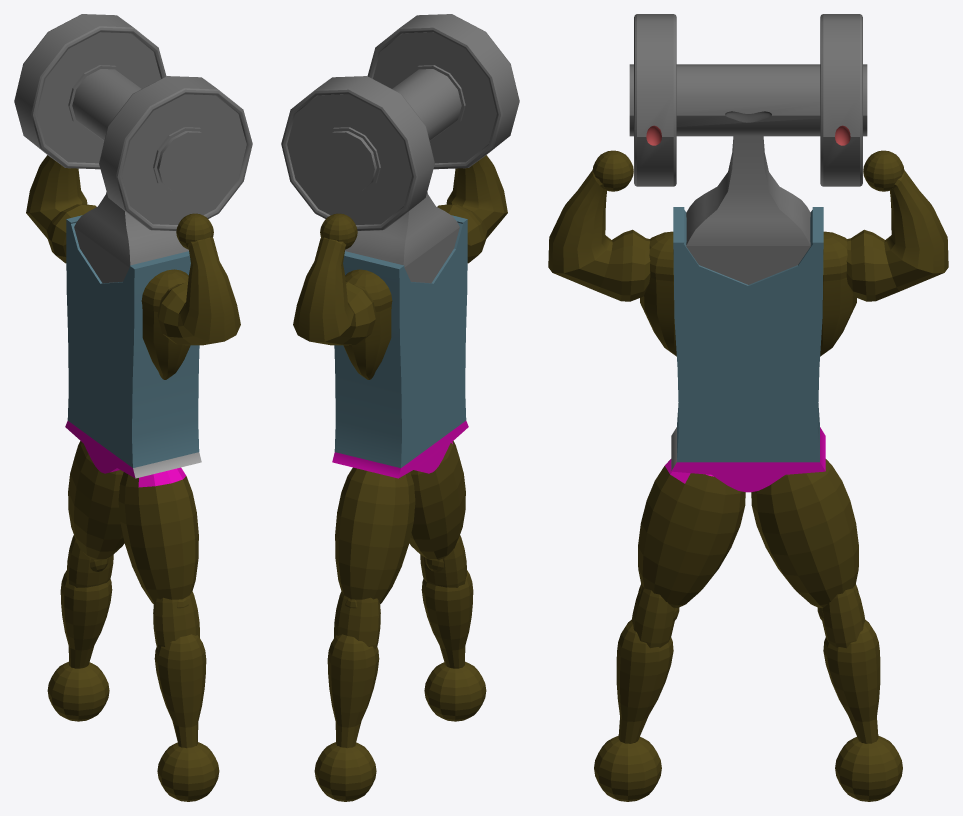
File: M_HJ_Chara_001.fbx
The picture shows the model from 3 angles, left to right: view 1: azimuth 30°, elevation 25°; view 2: azimuth 150°, elevation 25°; view 3: azimuth 270°, elevation 25°; orthographic projection. The views are drawn at different scales.
Parts seen in each view (by area): view 1: polySurface26; view 2: polySurface26; view 3: polySurface26.
Boxes of the visible parts, x1,y1,x2,y2 form: polySurface26: [14, 14, 252, 801]; polySurface26: [281, 14, 519, 801]; polySurface26: [548, 14, 948, 801].
Size of the model in its own units: 46.49 by 230 by 107.
